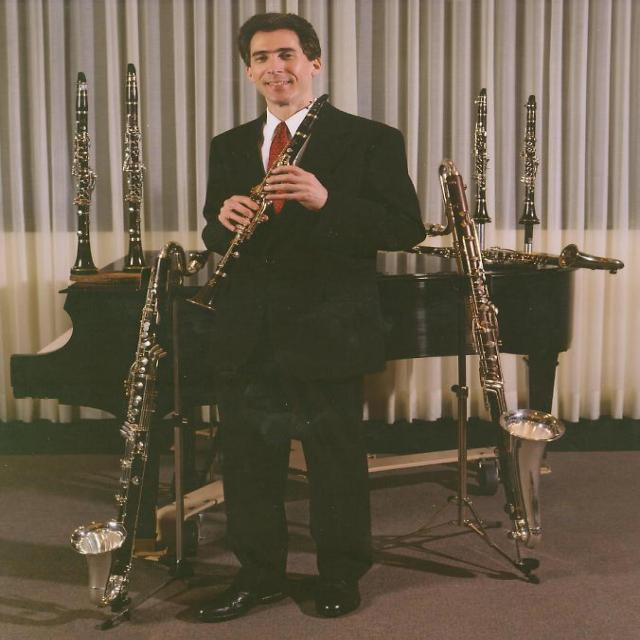clarinet: (184, 88, 333, 316), (116, 60, 154, 276), (64, 65, 100, 278), (516, 93, 548, 228), (469, 85, 499, 225)
saxophone: (66, 244, 211, 618), (431, 157, 564, 551), (416, 245, 626, 272)
